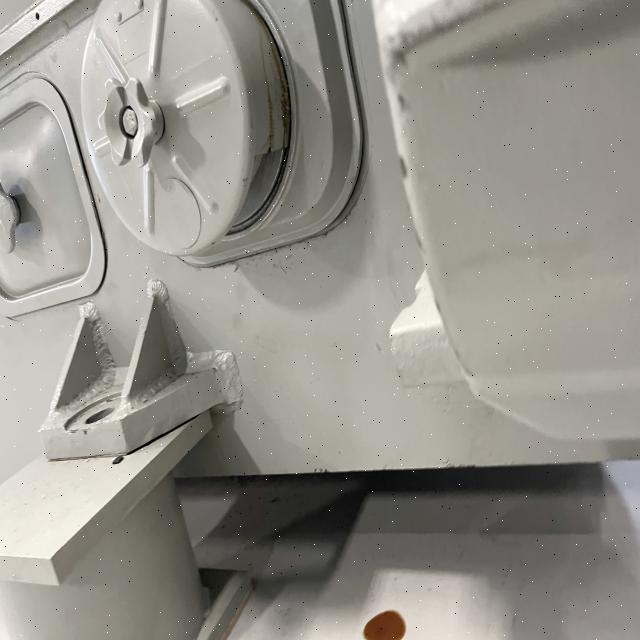Oil Leak: (363, 610, 406, 640)
